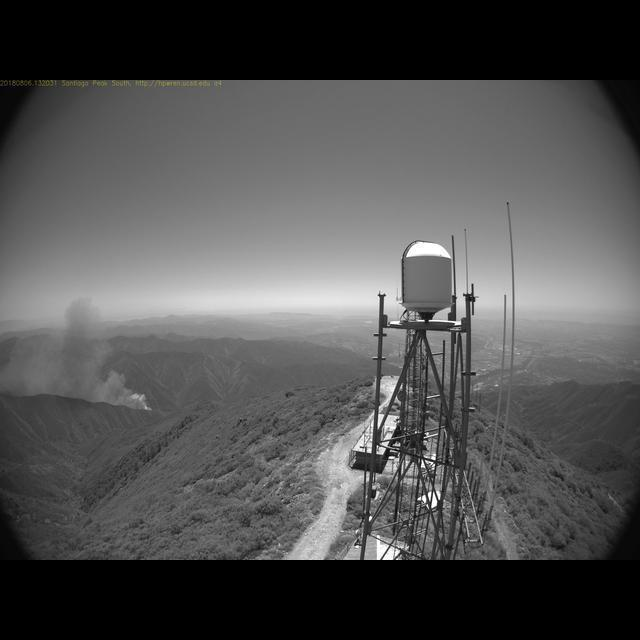Smoke: (1, 295, 148, 418)
